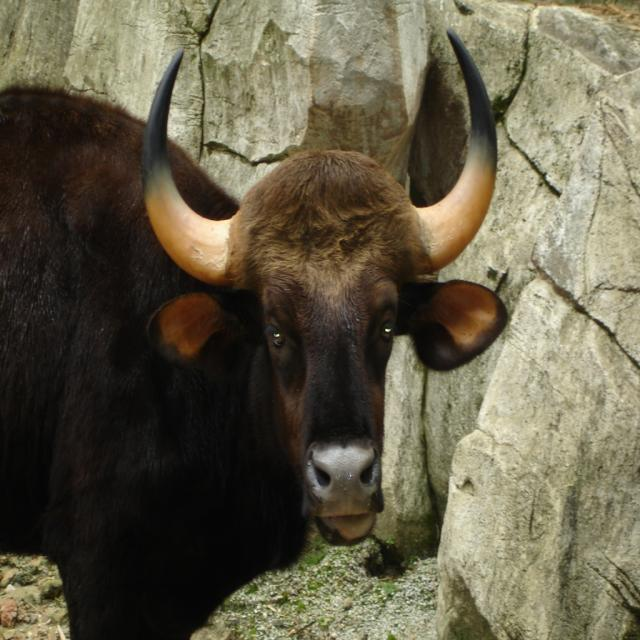Cattle: (0, 27, 510, 640)
